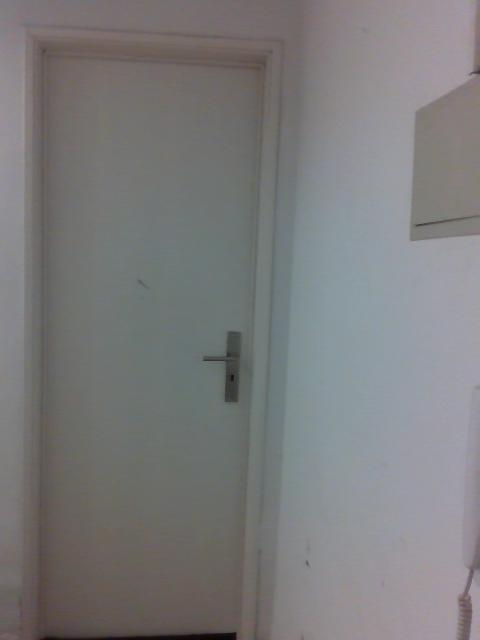closed_door: (25, 30, 282, 638)
